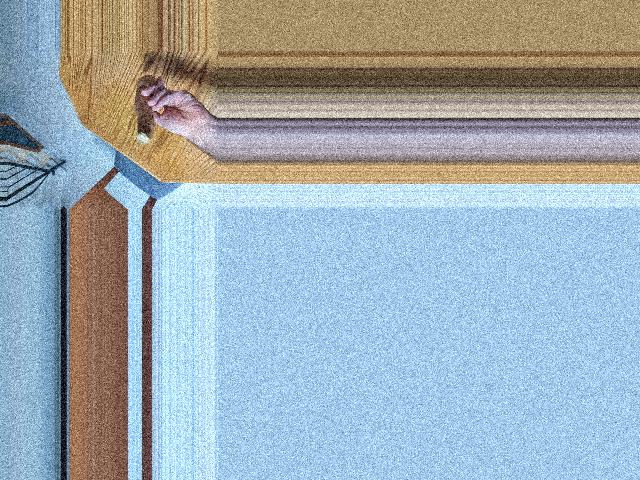sweet_potato: (134, 74, 162, 144)
